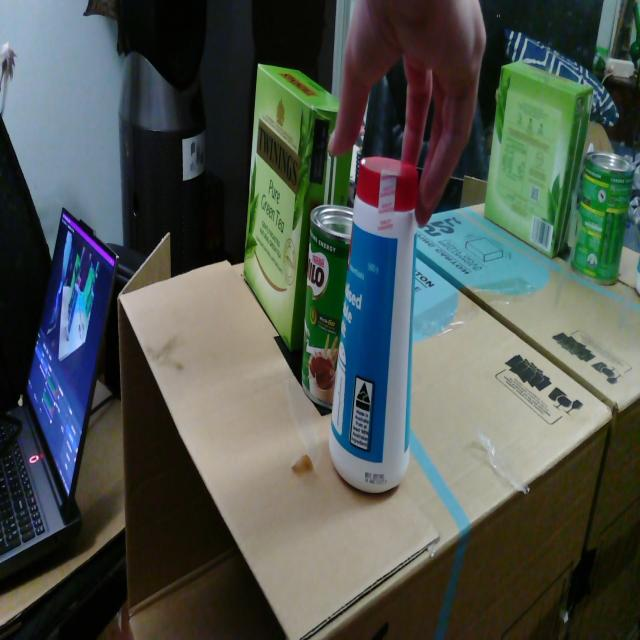nestle_milo_tin: (302, 205, 353, 409)
twinings_greentea_box: (243, 64, 352, 350)
woolworths_salt_bottle: (329, 157, 418, 493)
